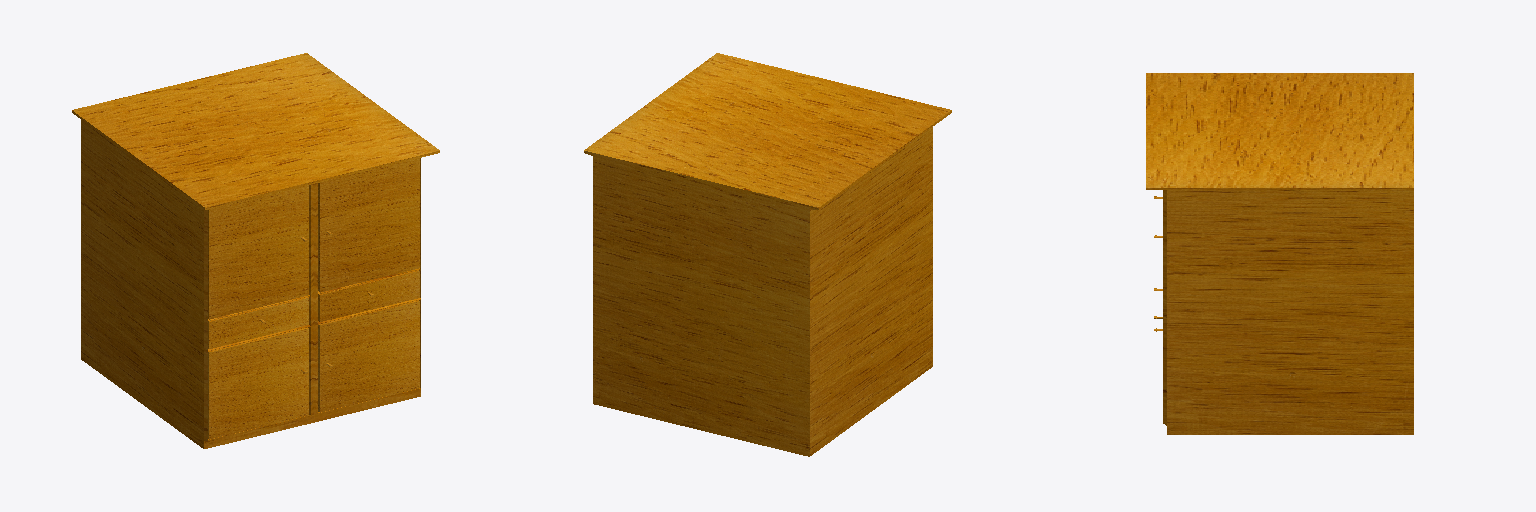
3 views of the same model, side by side, from view 1: azimuth 30°, elevation 25°; view 2: azimuth 150°, elevation 25°; view 3: azimuth 270°, elevation 25° (orthographic).
Parts seen in each view (by area): view 1: Default; view 2: Default; view 3: Default.
Part boxes in pixels (bbox=[...]): Default: bbox=[72, 53, 439, 448]; Default: bbox=[584, 53, 951, 456]; Default: bbox=[1146, 73, 1413, 434].
Size of the model in its own units: 0.9797 by 1 by 0.9645.
Materials: 5 (1 with a texture image).